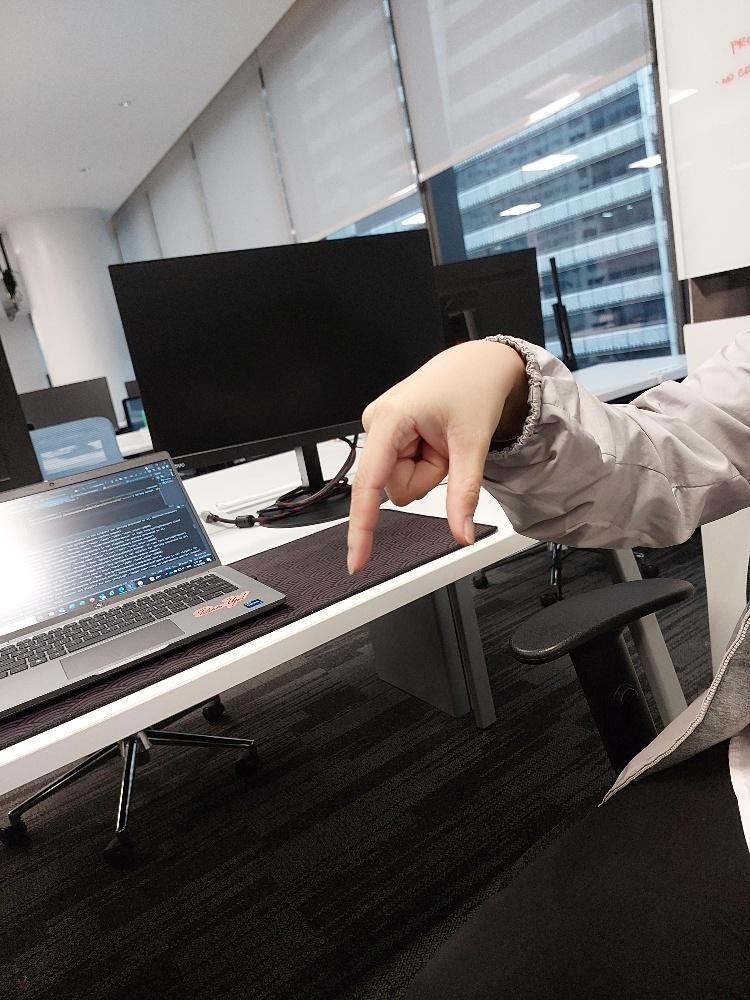q: (344, 337, 507, 573)
